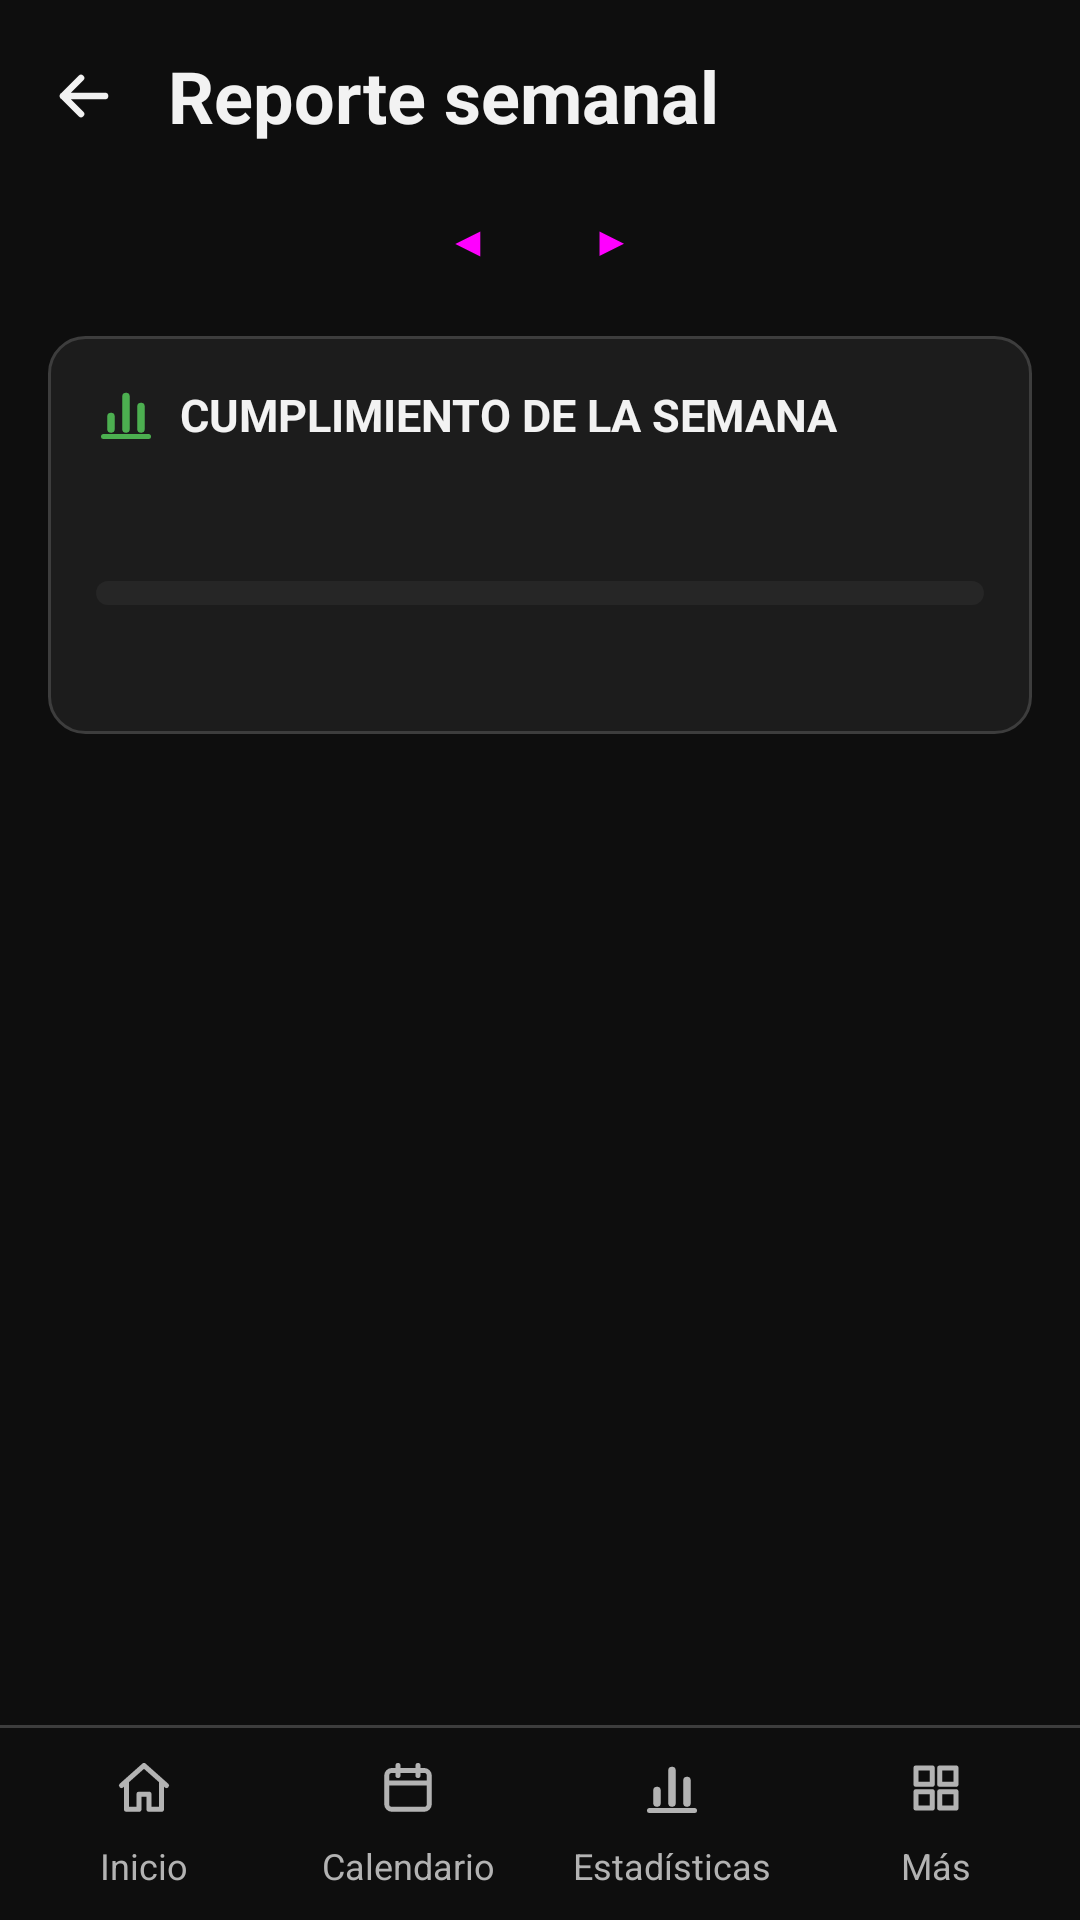

Icons on this 1080 x 1920 Android screen, each with the point to tap as (x,y):
Volver: (84,96)
